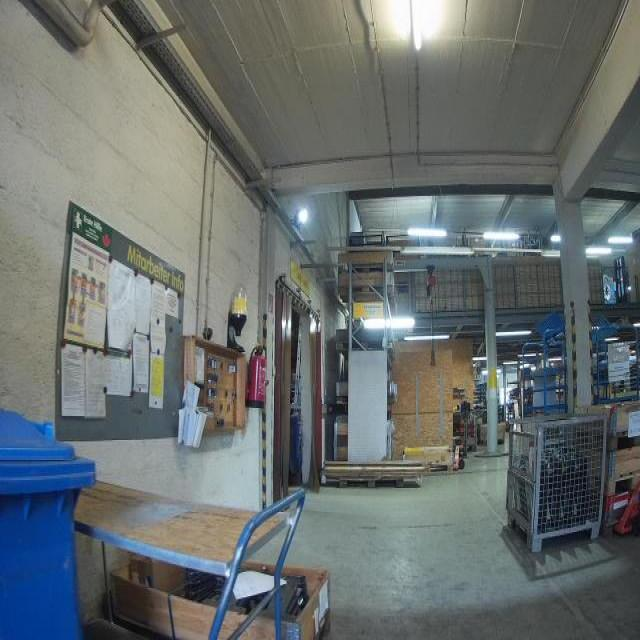pallet: (338, 476, 406, 493), (607, 468, 640, 501), (605, 427, 640, 455)
pallet_truck: (450, 396, 471, 477), (612, 475, 638, 537)
stillage: (507, 411, 609, 554)
